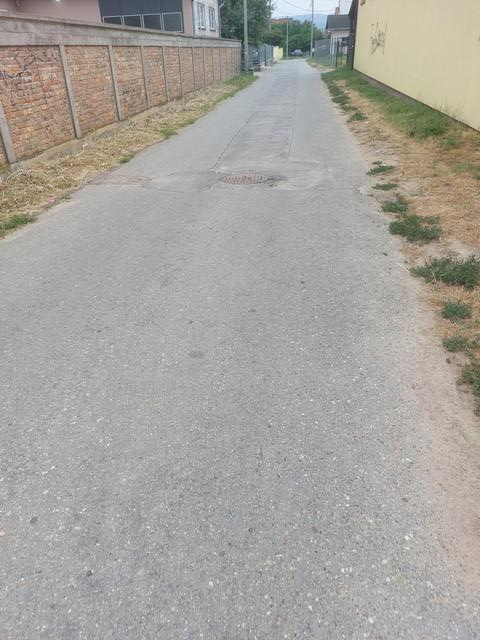pothole: (208, 158, 327, 209)
